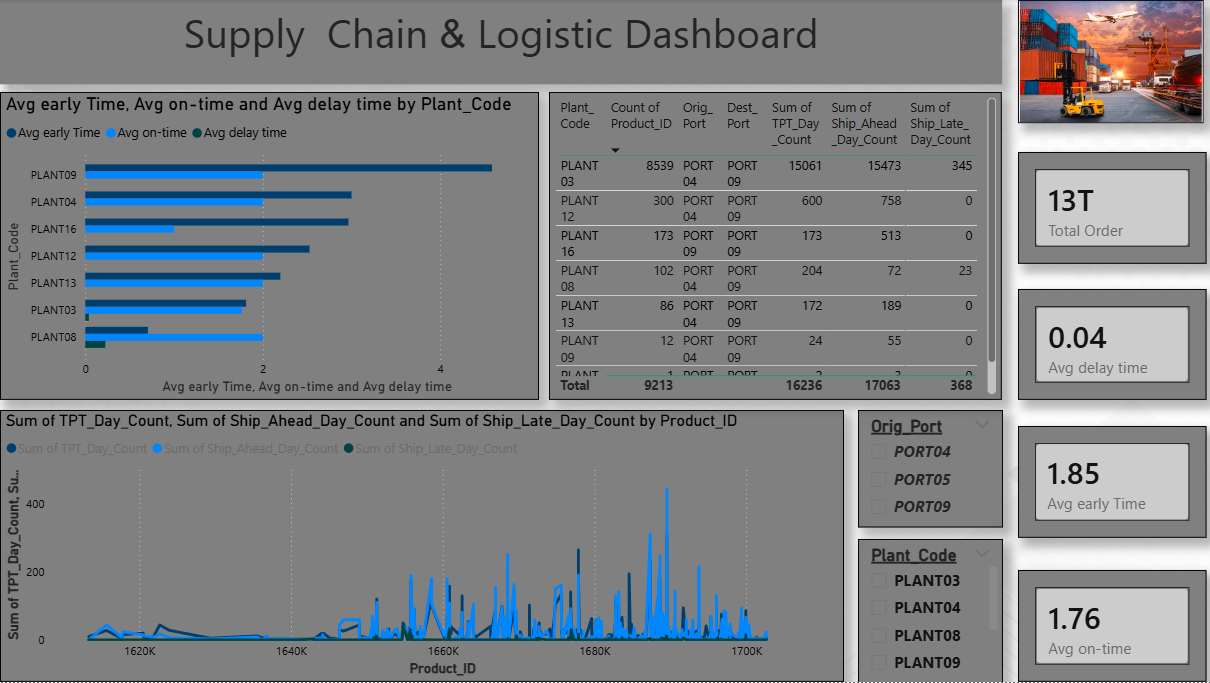

This screenshot's page, from the dashboard's own definition file:
{"tool":"powerbi","page":{"name":"Page 1","canvas":[1280,720],"ordinal":0},"visuals":[{"type":"textbox","box":[0,0,1058.4,88.9],"z":0},{"type":"image","box":[1074.3,0,195.9,129.9],"z":1000},{"type":"cardVisual","fields":{"Data":["Sheet1.Total Order"]},"box":[1074.3,160.6,199.4,118.5],"z":2000},{"type":"cardVisual","fields":{"Data":["Sheet1.Avg delay time"]},"box":[1074.3,305.3,199.4,117.3],"z":3000},{"type":"cardVisual","fields":{"Data":["Sheet1.Avg early Time"]},"box":[1074.3,450,199.4,118.5],"z":4000},{"type":"cardVisual","fields":{"Data":["Sheet1.Avg on-time"]},"box":[1074.3,601.5,199.4,118.5],"z":5000},{"type":"slicer","fields":{"Values":["Sheet1.Orig_Port"]},"box":[906.1,433.3,152.9,124.3],"z":6000},{"type":"slicer","fields":{"Values":["Sheet1.Plant_Code"]},"box":[906.1,568.5,152.9,151.8],"z":7000},{"type":"clusteredBarChart","fields":{"Category":["Sheet1.Plant_Code"],"Y":["Sheet1.Avg early Time","Sheet1.Avg on-time","Sheet1.Avg delay time"]},"box":[0,96.8,568.5,325.5],"z":8000},{"type":"lineChart","fields":{"Y":["Sum(Sheet1.TPT_Day_Count)","Sum(Sheet1.Ship_Ahead_Day_Count)","Sum(Sheet1.Ship_Late_Day_Count)"],"Category":["Sheet1.Product_ID"]},"box":[0,432.9,890.9,287.1],"z":9000},{"type":"tableEx","fields":{"Values":["Sheet1.Plant_Code","CountNonNull(Sheet1.Product_ID)","Sheet1.Orig_Port","Sheet1.Dest_Port","Sum(Sheet1.TPT_Day_Count)","Sum(Sheet1.Ship_Ahead_Day_Count)","Sum(Sheet1.Ship_Late_Day_Count)"]},"box":[579.5,96.8,478.4,325.5],"z":10000}]}

Visuals, with their boxes in screenshot pixels (x1, y1, x2, y2), scaled from the page's 1280x720 canvas onto the 1210x683 screenshot:
textbox: (x1=0, y1=0, x2=1001, y2=84)
image: (x1=1016, y1=0, x2=1201, y2=123)
cardVisual - Sheet1.Total Order: (x1=1016, y1=152, x2=1204, y2=265)
cardVisual - Sheet1.Avg delay time: (x1=1016, y1=290, x2=1204, y2=401)
cardVisual - Sheet1.Avg early Time: (x1=1016, y1=427, x2=1204, y2=539)
cardVisual - Sheet1.Avg on-time: (x1=1016, y1=571, x2=1204, y2=682)
slicer - Sheet1.Orig_Port: (x1=857, y1=411, x2=1001, y2=529)
slicer - Sheet1.Plant_Code: (x1=857, y1=539, x2=1001, y2=682)
clusteredBarChart - Sheet1.Plant_Code x Sheet1.Avg early Time: (x1=0, y1=92, x2=537, y2=401)
lineChart - Sum(Sheet1.TPT_Day_Count) x Sum(Sheet1.Ship_Ahead_Day_Count): (x1=0, y1=411, x2=842, y2=682)
tableEx - Sheet1.Plant_Code x CountNonNull(Sheet1.Product_ID): (x1=548, y1=92, x2=1000, y2=401)
